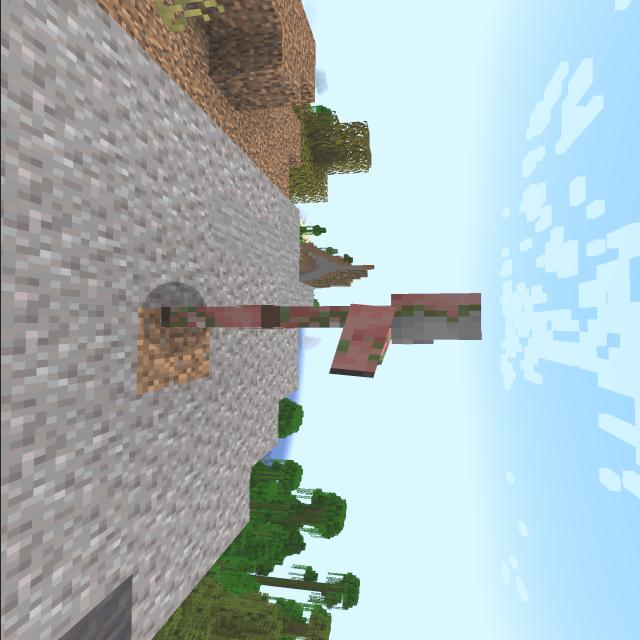Zombified Piglin: (132, 285, 496, 383)
